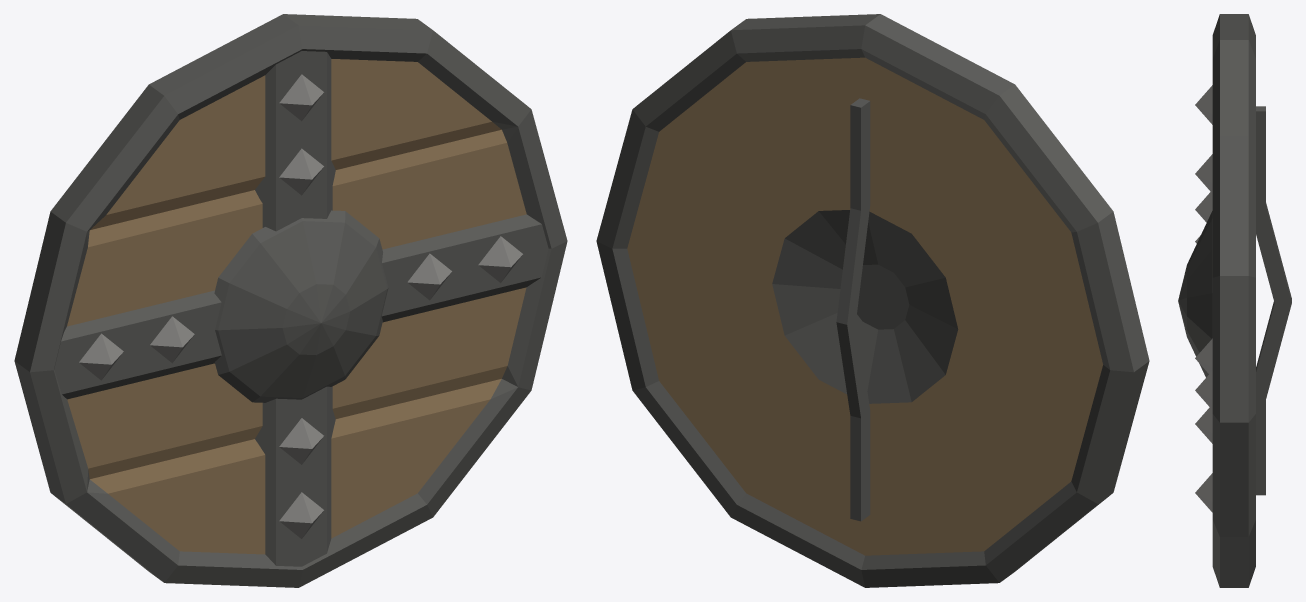
The model's file is SM_pwe_gauls_shield_01.fbx.
The picture shows the model from 3 angles, left to right: view 1: azimuth 30°, elevation 25°; view 2: azimuth 150°, elevation 25°; view 3: azimuth 270°, elevation 25°; orthographic projection. The views are drawn at different scales.
Visible parts, largest first — view 1: SM_pwe_gauls_shield_01; view 2: SM_pwe_gauls_shield_01; view 3: SM_pwe_gauls_shield_01.
Boxes of the visible parts, x1,y1,x2,y2 form: SM_pwe_gauls_shield_01: (14, 14, 567, 587); SM_pwe_gauls_shield_01: (596, 14, 1149, 587); SM_pwe_gauls_shield_01: (1178, 14, 1291, 587).
Bounding box in the file's own units: 70.52 × 70.52 × 13.94.
